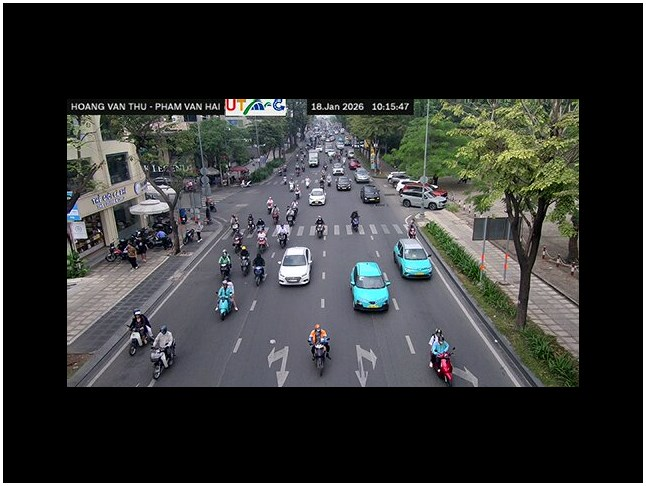car: (349, 260, 392, 313), (392, 237, 433, 280), (277, 245, 313, 286), (400, 184, 449, 209), (386, 171, 415, 187), (360, 184, 381, 203), (308, 188, 326, 207), (335, 175, 352, 191), (355, 172, 370, 183)
motorbike: (149, 339, 176, 380), (216, 293, 237, 320), (253, 258, 267, 286)
